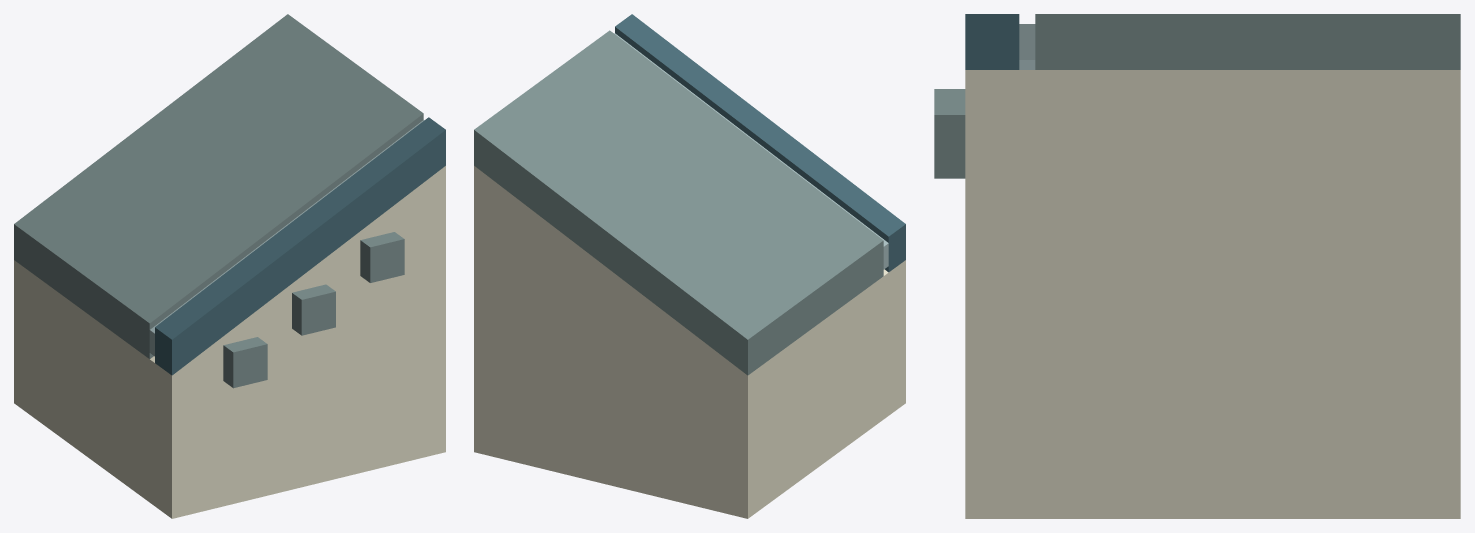
File: FloorBlock-Slope.002.fbx
3 renders of one model, left to right at view 1: azimuth 30°, elevation 25°; view 2: azimuth 150°, elevation 25°; view 3: azimuth 270°, elevation 25°, orthographic. The views are drawn at different scales.
Parts seen in each view (by area): view 1: FloorBlock-Slope.002; view 2: FloorBlock-Slope.002; view 3: FloorBlock-Slope.002.
Boxes of the visible parts, <box> form: FloorBlock-Slope.002: <box>14,14,445,518</box>; FloorBlock-Slope.002: <box>474,14,905,518</box>; FloorBlock-Slope.002: <box>934,14,1460,518</box>.
Bounding box in the file's own units: 800 × 900 × 850.
